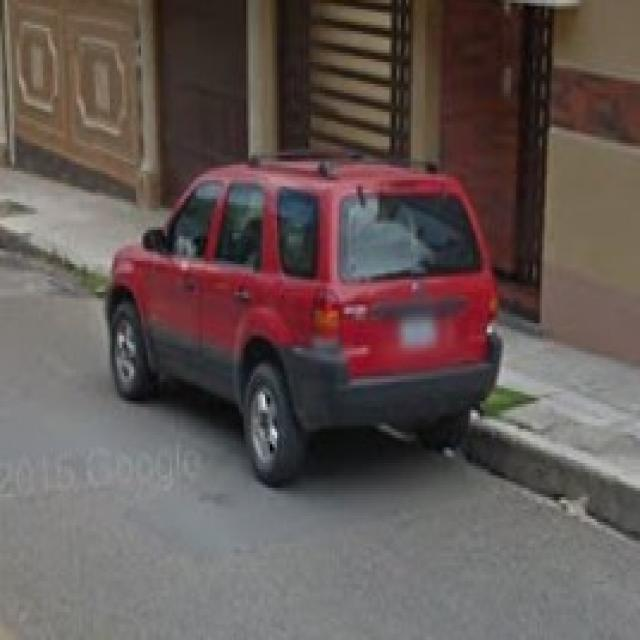Car: (116, 157, 502, 461)
